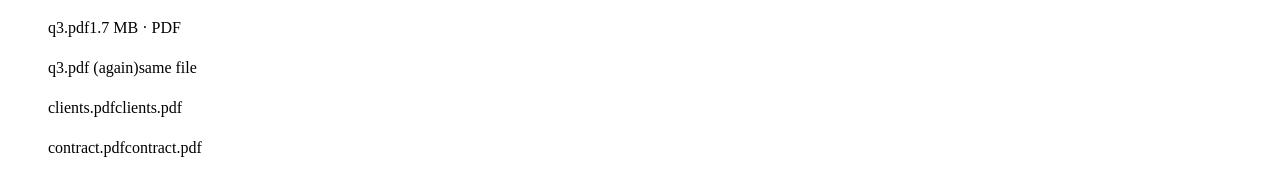
Test: download card — sandbox live (UC-062) › shares one state between two cards for the same file, and ignores repeat clicks
This screenshot has width=1280, height=174.
Click the button with aria-label "Download" at (122, 28), box [8, 8, 237, 48]
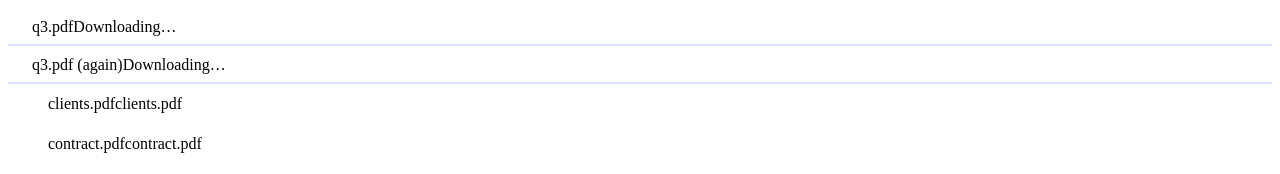
expect the 2nd text "Downloading…" is shown: met, box [123, 56, 226, 73]
expect the button "q3.pdf (again)Downloading…" is disabled: met, box [8, 46, 238, 84]
